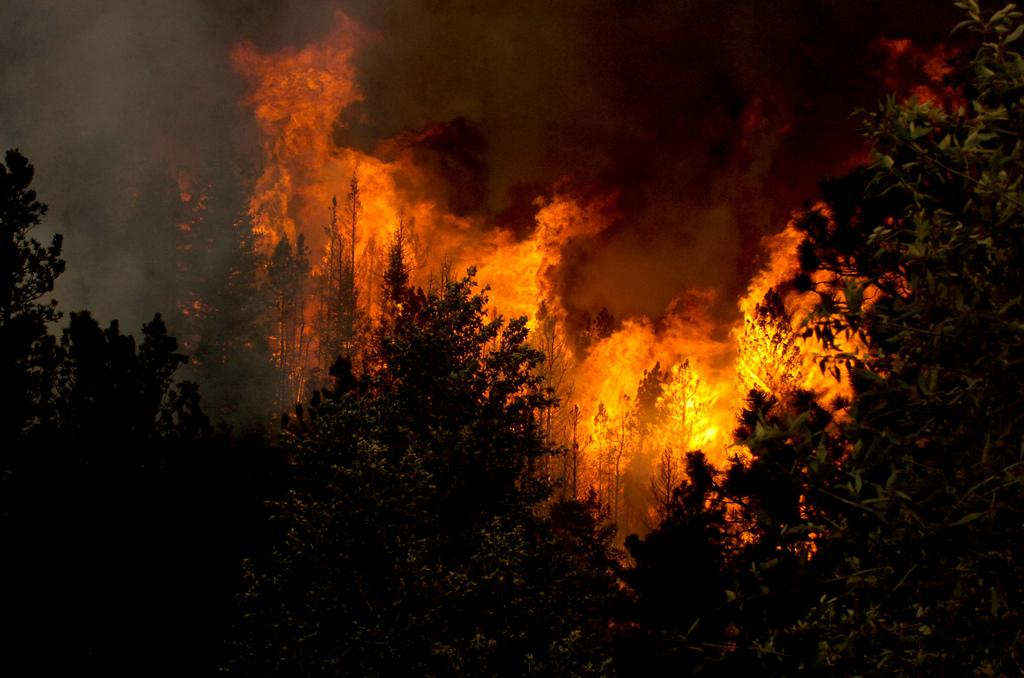fire: (235, 60, 407, 293), (572, 313, 733, 508), (748, 270, 860, 392), (438, 215, 553, 312)
